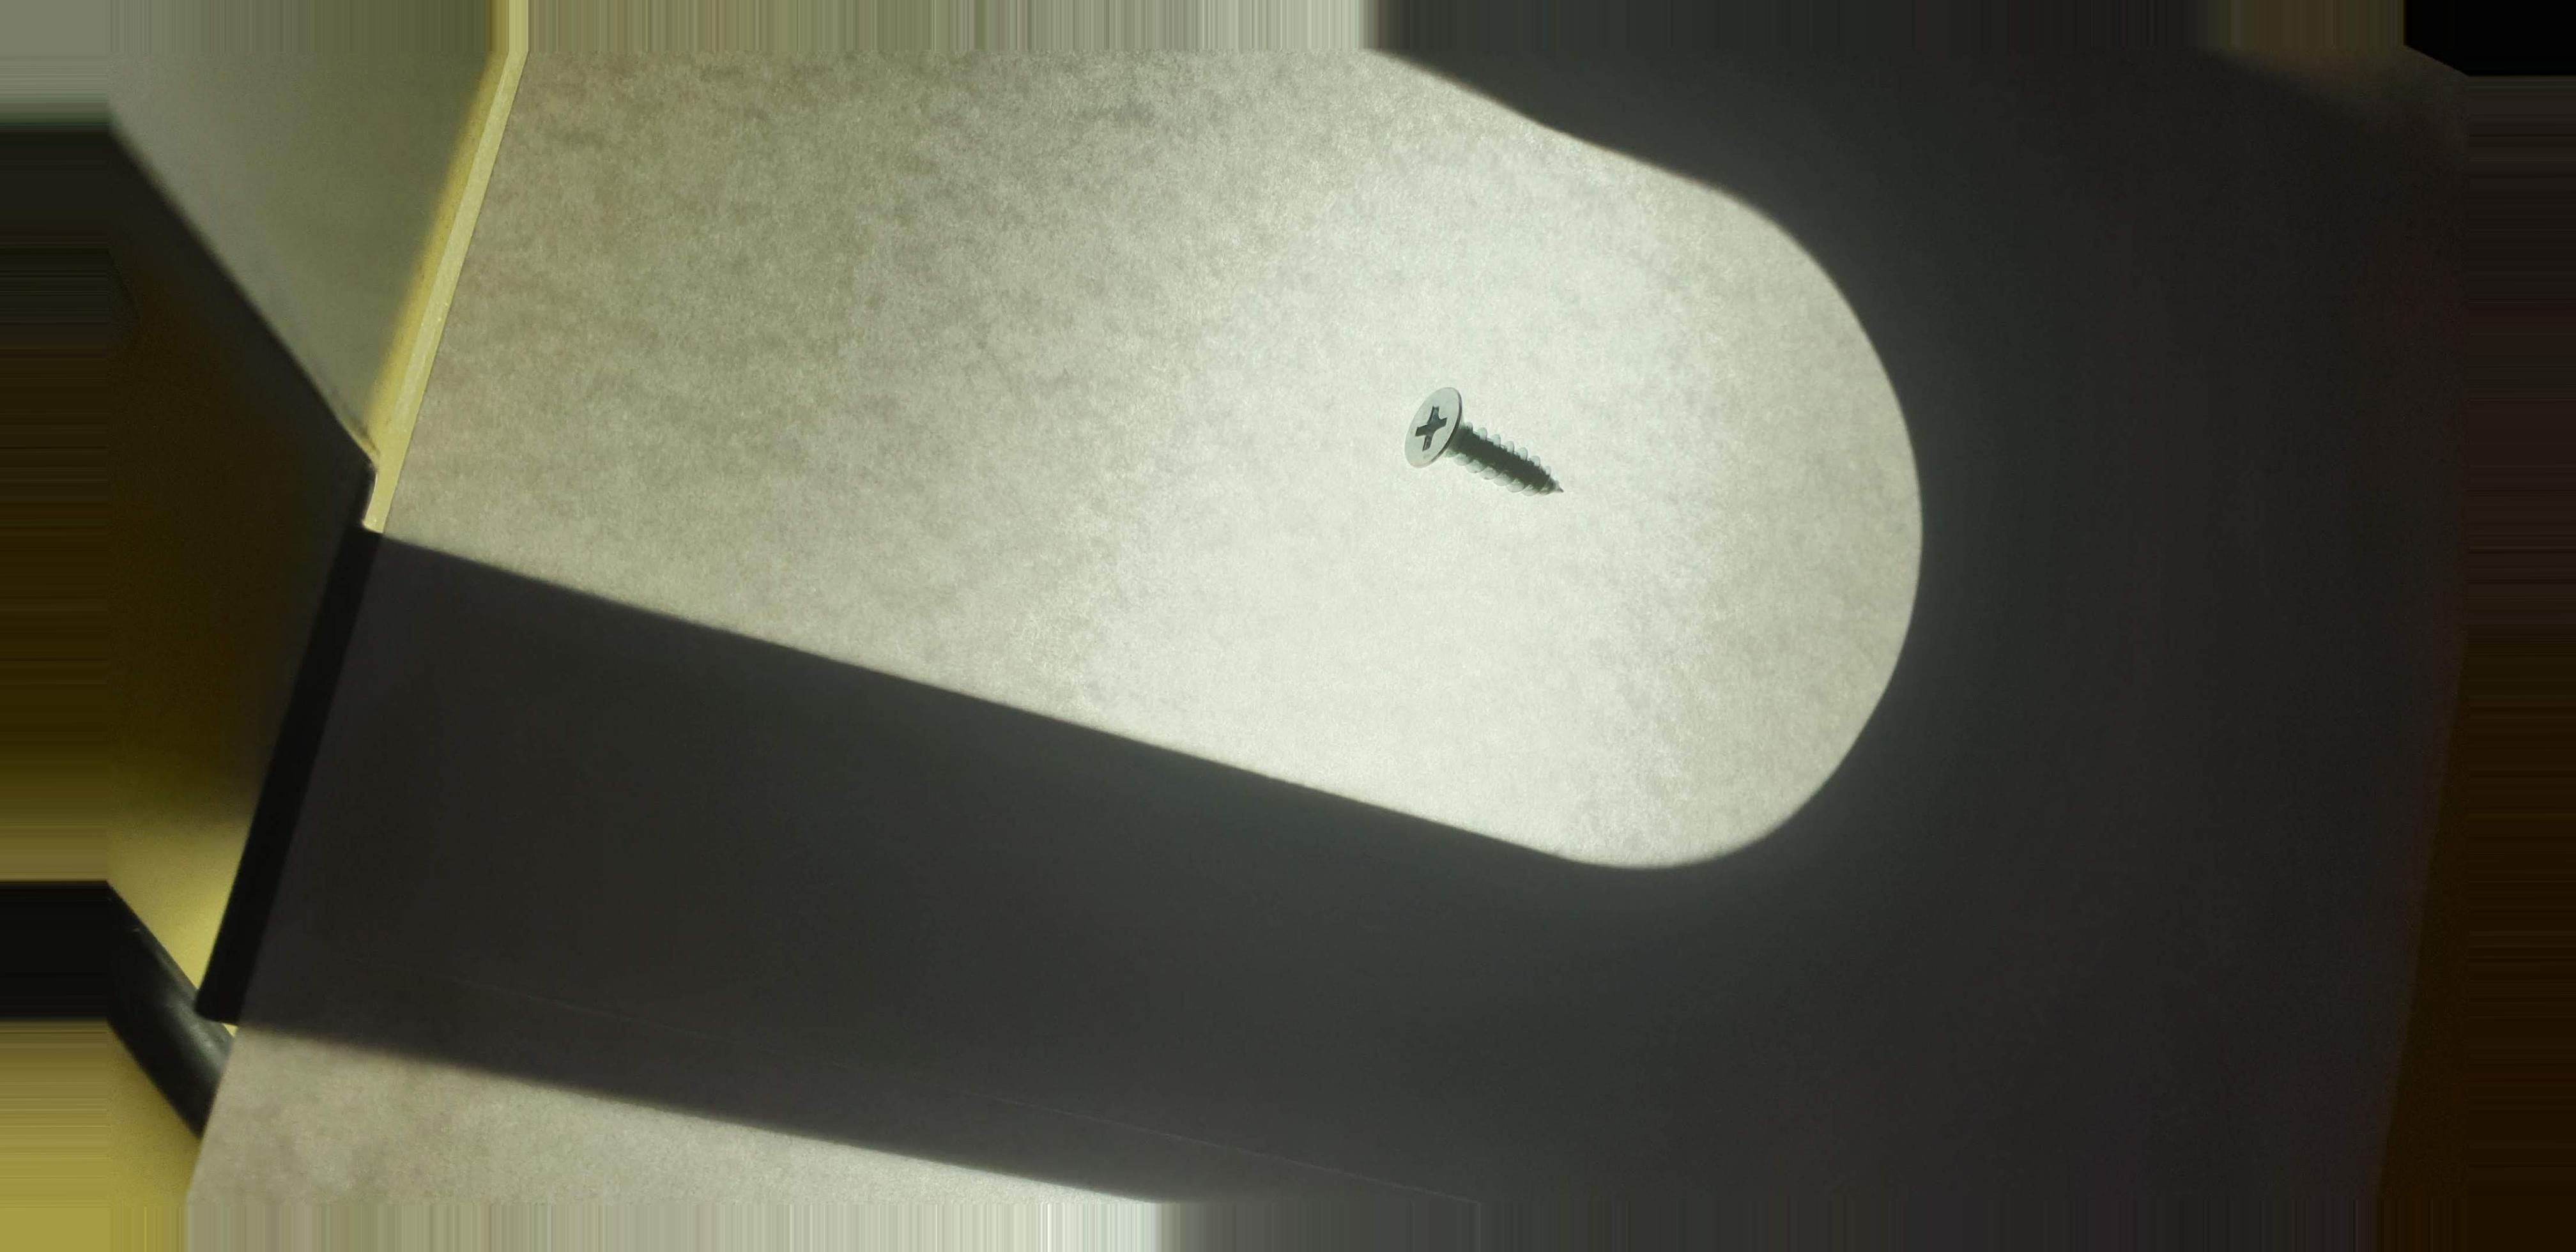S003: (1375, 363, 1608, 531)
